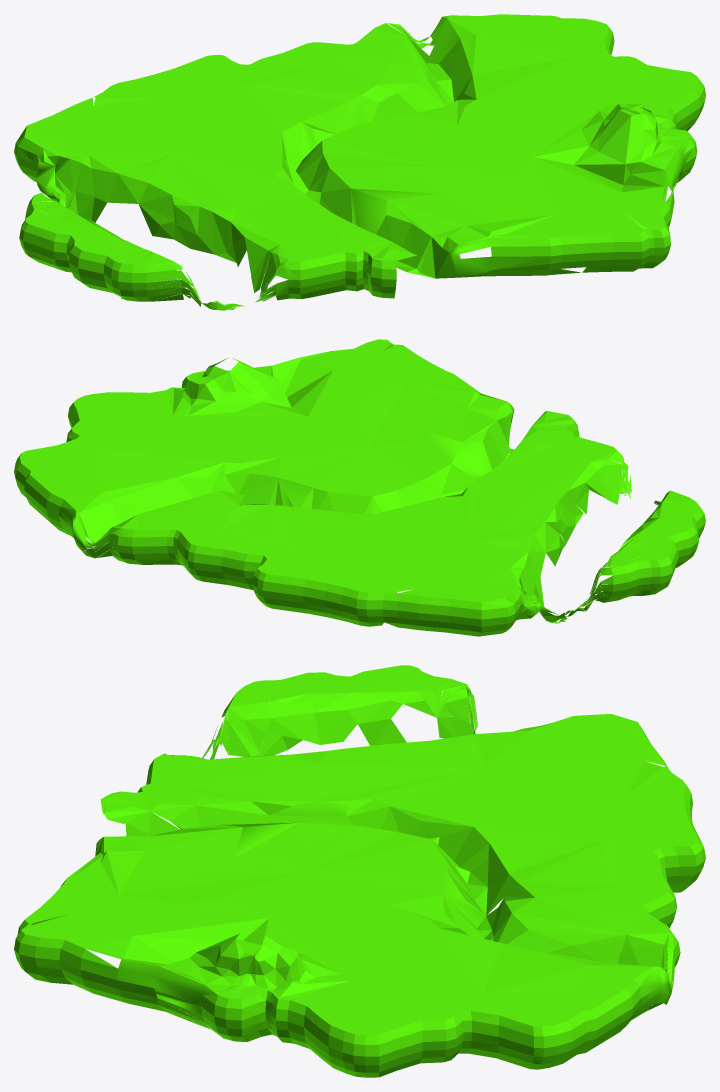
File: Map-v0.1.glb
The picture shows the model from 3 angles, top to bottom: view 1: azimuth 30°, elevation 25°; view 2: azimuth 150°, elevation 25°; view 3: azimuth 270°, elevation 25°; orthographic projection. The views are drawn at different scales.
Visible parts, largest first — view 1: SM_FloatingIsland_S_2_StaticMeshComponent0; view 2: SM_FloatingIsland_S_2_StaticMeshComponent0; view 3: SM_FloatingIsland_S_2_StaticMeshComponent0.
Boxes of the visible parts, x1,y1,x2,y2 form: SM_FloatingIsland_S_2_StaticMeshComponent0: (14, 14, 705, 310); SM_FloatingIsland_S_2_StaticMeshComponent0: (14, 339, 705, 636); SM_FloatingIsland_S_2_StaticMeshComponent0: (14, 665, 705, 1077).
Bounding box in the file's own units: 527 × 72.25 × 410.
